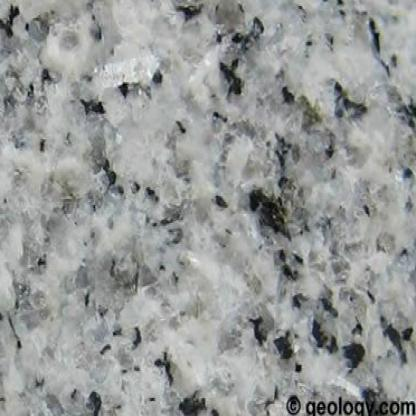Igneous_Granite: (0, 3, 415, 414)
